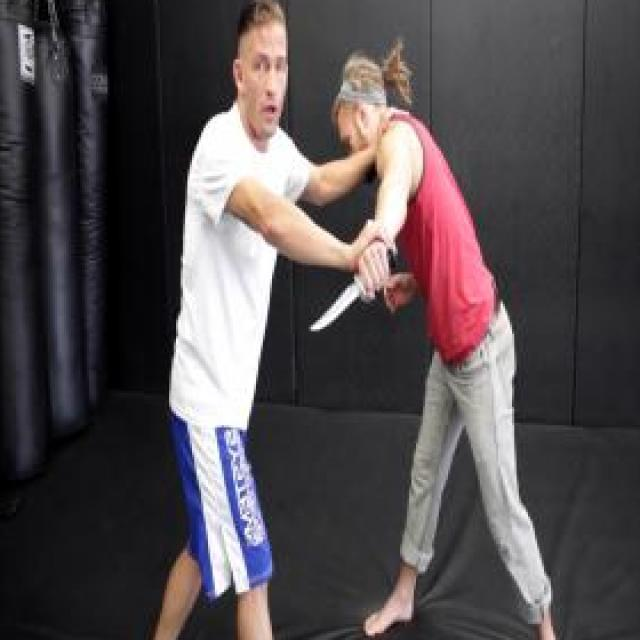knife: (302, 238, 402, 348)
